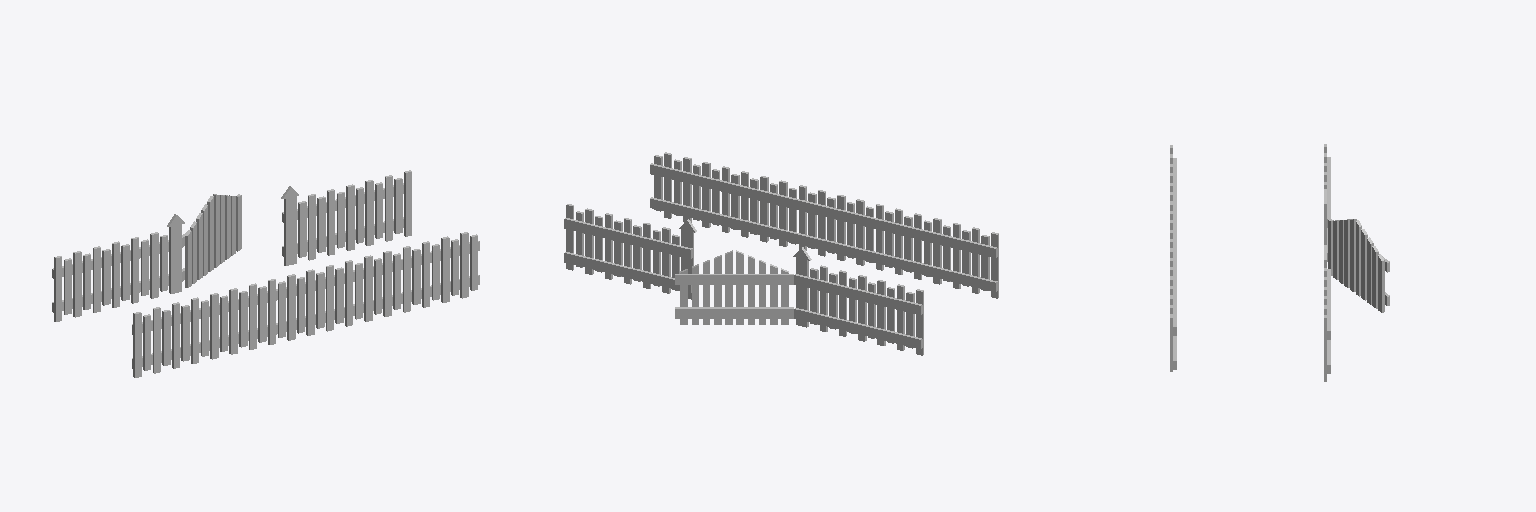
The model's file is yog'och devor 2.obj.
3 renders of one model, left to right at view 1: azimuth 30°, elevation 25°; view 2: azimuth 150°, elevation 25°; view 3: azimuth 270°, elevation 25°, orthographic.
Visible parts, largest first — view 1: Box033, Box034, Box027, Box028, Box064, Box081, Box135, Box143, Box054, Box056, Box089, Box116 (+11 smaller); view 2: Box034, Box033, Box036, Box092, Box154, Box093, Box155, Box123, Box035, Box079, Box140, Box077 (+4 smaller); view 3: Box034, Box033.
Part boxes in pixels (x1,y1,x2,y2): Box033: (185,196,213,287); Box034: (213,194,241,267); Box027: (167,214,184,293); Box028: (281,186,298,265); Box064: (364,255,372,321); Box081: (150,232,158,298); Box135: (287,274,295,340); Box143: (229,288,237,354); Box054: (460,232,468,298); Box056: (441,236,449,302); Box089: (73,251,81,317); Box116: (346,184,354,250); Box034: (680,250,732,324); Box033: (736,250,788,324); Box036: (675,307,793,318); Box092: (805,277,922,314); Box154: (880,220,997,257); Box093: (805,310,922,348); Box155: (880,253,997,291); Box123: (564,218,680,256); Box035: (675,274,793,284); Box079: (650,197,765,235); Box140: (765,191,881,229); Box077: (650,163,766,201); Box034: (1356,220,1384,312); Box033: (1328,219,1356,291).
Bounding box in the file's own units: 7041 × 1475 × 3780.